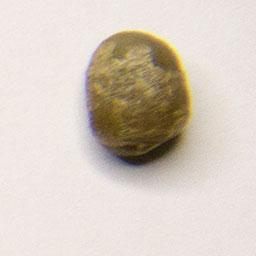peaberry: (80, 28, 194, 160)
